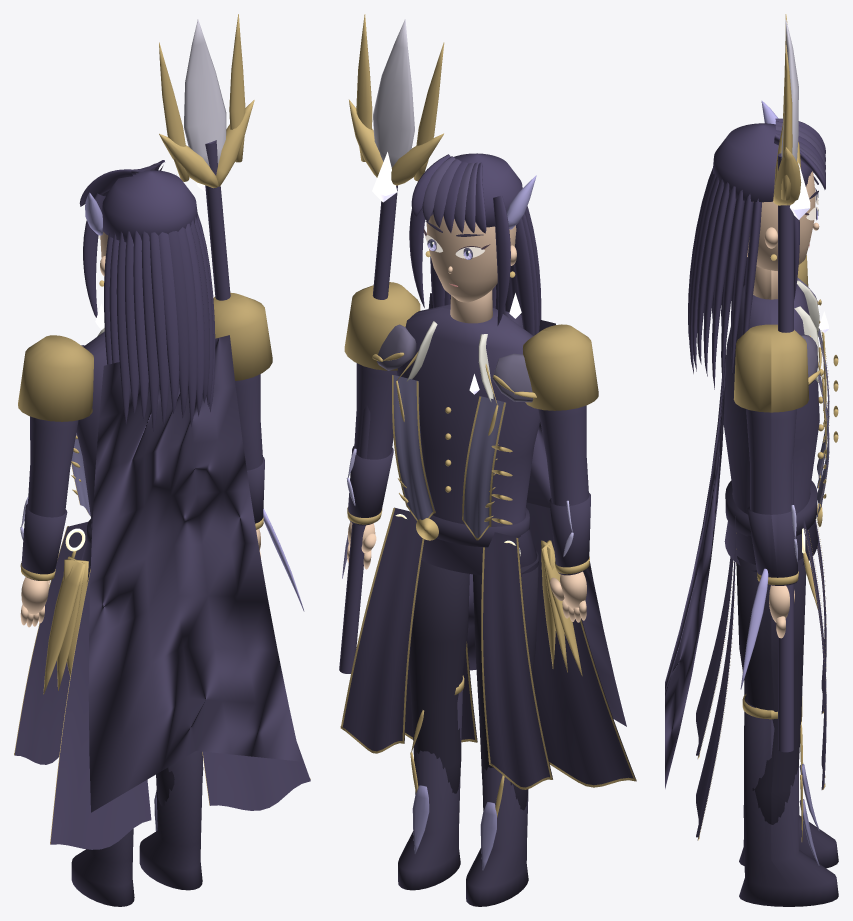
The model's file is character_21.glb.
3 renders of one model, left to right at view 1: azimuth 30°, elevation 25°; view 2: azimuth 150°, elevation 25°; view 3: azimuth 270°, elevation 25°, orthographic. The views are drawn at different scales.
Parts seen in each view (by area): view 1: _MeshInstance3D_6213, _MeshInstance3D_6251, _MeshInstance3D_6198, _MeshInstance3D_6252, _MeshInstance3D_6253, _MeshInstance3D_6225, _MeshInstance3D_6196, _MeshInstance3D_6220, _MeshInstance3D_6233, _MeshInstance3D_6202, _MeshInstance3D_6228, _MeshInstance3D_6218 (+9 smaller); view 2: _MeshInstance3D_6192, _MeshInstance3D_6196, _MeshInstance3D_6198, _MeshInstance3D_6200, _MeshInstance3D_6224, _MeshInstance3D_6251, _MeshInstance3D_6228, _MeshInstance3D_6225, _MeshInstance3D_6220, _MeshInstance3D_6215, _MeshInstance3D_6233, _MeshInstance3D_6213 (+27 smaller); view 3: _MeshInstance3D_6251, _MeshInstance3D_6225, _MeshInstance3D_6228, _MeshInstance3D_6224, _MeshInstance3D_6192, _MeshInstance3D_6213, _MeshInstance3D_6230, _MeshInstance3D_6252, _MeshInstance3D_6253, _MeshInstance3D_6229, _MeshInstance3D_6233, _MeshInstance3D_6238 (+18 smaller).
Part boxes in pixels (left/top/right/bottom): _MeshInstance3D_6213: left=88, top=335, right=300, bottom=812; _MeshInstance3D_6251: left=79, top=160, right=215, bottom=420; _MeshInstance3D_6198: left=50, top=571, right=151, bottom=849; _MeshInstance3D_6252: left=104, top=217, right=213, bottom=426; _MeshInstance3D_6253: left=116, top=214, right=212, bottom=432; _MeshInstance3D_6225: left=139, top=751, right=202, bottom=890; _MeshInstance3D_6196: left=14, top=522, right=87, bottom=764; _MeshInstance3D_6220: left=18, top=335, right=93, bottom=421; _MeshInstance3D_6233: left=159, top=14, right=263, bottom=529; _MeshInstance3D_6202: left=202, top=743, right=310, bottom=810; _MeshInstance3D_6228: left=205, top=140, right=262, bottom=470; _MeshInstance3D_6218: left=25, top=416, right=78, bottom=580; _MeshInstance3D_6192: left=396, top=304, right=540, bottom=575; _MeshInstance3D_6196: left=483, top=532, right=552, bottom=787; _MeshInstance3D_6198: left=526, top=502, right=636, bottom=785; _MeshInstance3D_6200: left=343, top=507, right=423, bottom=751; _MeshInstance3D_6224: left=409, top=560, right=469, bottom=793; _MeshInstance3D_6251: left=409, top=153, right=538, bottom=334; _MeshInstance3D_6228: left=339, top=185, right=397, bottom=673; _MeshInstance3D_6225: left=398, top=677, right=462, bottom=890; _MeshInstance3D_6220: left=523, top=324, right=598, bottom=410; _MeshInstance3D_6215: left=466, top=767, right=528, bottom=906; _MeshInstance3D_6233: left=347, top=14, right=444, bottom=524; _MeshInstance3D_6213: left=428, top=293, right=626, bottom=726; _MeshInstance3D_6251: left=692, top=118, right=825, bottom=389; _MeshInstance3D_6225: left=739, top=695, right=838, bottom=906; _MeshInstance3D_6228: left=746, top=153, right=796, bottom=752; _MeshInstance3D_6224: left=736, top=556, right=806, bottom=824; _MeshInstance3D_6192: left=723, top=284, right=819, bottom=572; _MeshInstance3D_6213: left=665, top=335, right=726, bottom=788; _MeshInstance3D_6230: left=733, top=324, right=809, bottom=412; _MeshInstance3D_6252: left=689, top=173, right=753, bottom=376; _MeshInstance3D_6253: left=688, top=169, right=744, bottom=382; _MeshInstance3D_6229: left=747, top=506, right=797, bottom=577; _MeshInstance3D_6233: left=757, top=14, right=801, bottom=584; _MeshInstance3D_6238: left=747, top=171, right=819, bottom=270.
Size of the model in its own units: 1.03 by 3.05 by 0.539.
